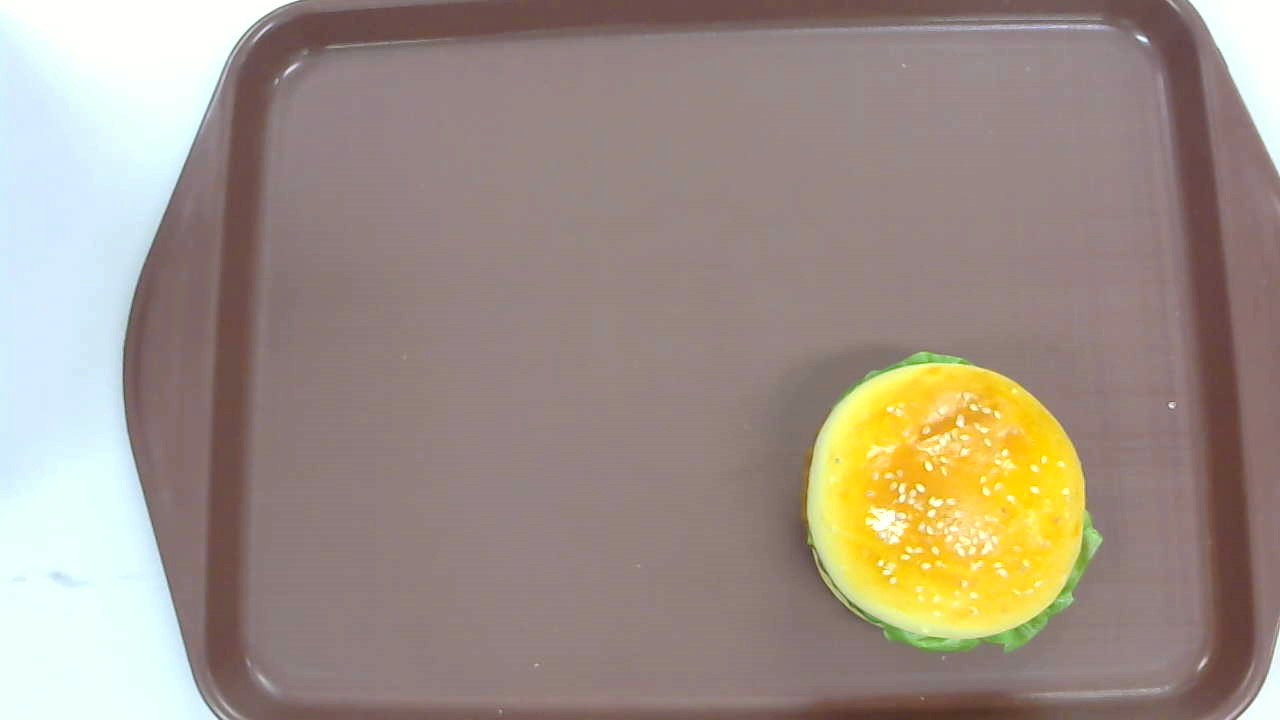hamburger: (803, 348, 1104, 652)
